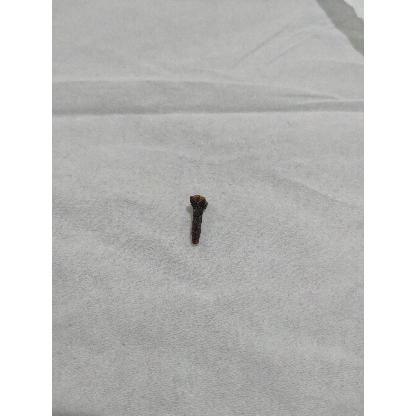sedang: (189, 194, 208, 246)
